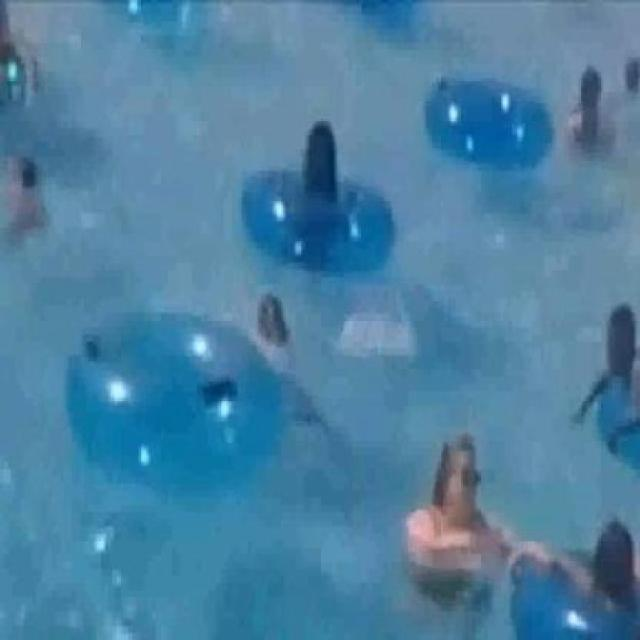drowning: (426, 430, 502, 596), (563, 67, 617, 184), (7, 156, 45, 239)
